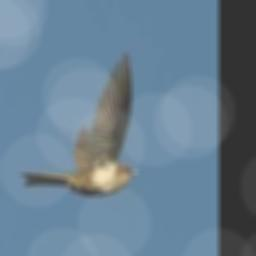Cuckoo: (19, 51, 138, 195)
